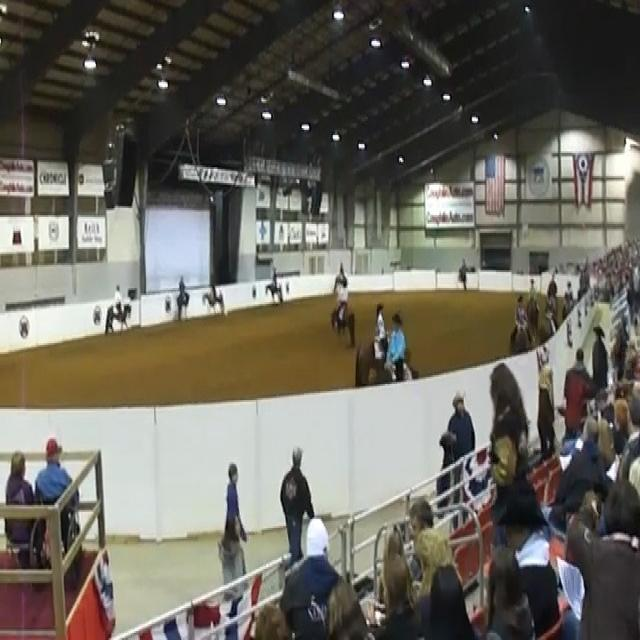horse: (104, 282, 140, 343), (328, 278, 360, 344), (201, 270, 232, 323), (444, 252, 478, 298), (257, 269, 290, 313), (173, 274, 193, 329)
